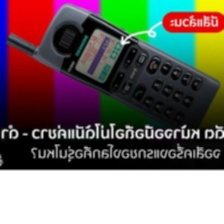phone: (2, 2, 222, 141)
